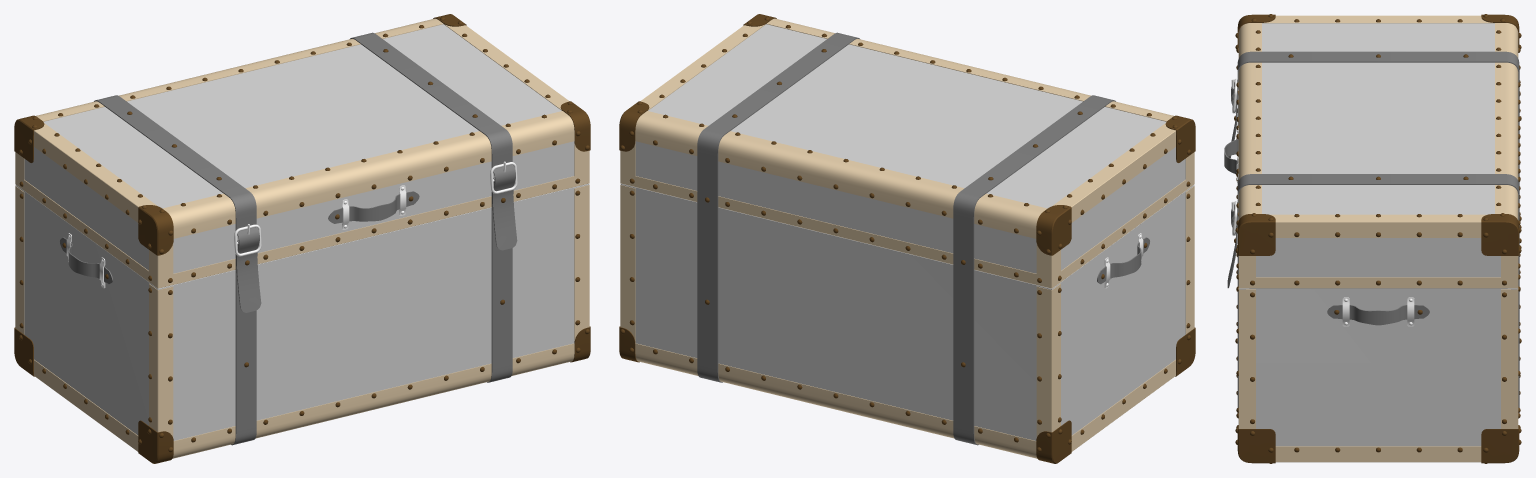
The model's file is chest.FBX.
The picture shows the model from 3 angles, left to right: view 1: azimuth 30°, elevation 25°; view 2: azimuth 150°, elevation 25°; view 3: azimuth 270°, elevation 25°; orthographic projection. The views are drawn at different scales.
Parts seen in each view (by area): view 1: Obj3d66-494775-1-440; view 2: Obj3d66-494775-1-440; view 3: Obj3d66-494775-1-440.
Part boxes in pixels (x1,y1,x2,y2): Obj3d66-494775-1-440: (14, 14, 590, 463); Obj3d66-494775-1-440: (619, 14, 1195, 463); Obj3d66-494775-1-440: (1224, 14, 1521, 463).
Bounding box in the file's own units: 34.94 × 18.36 × 20.09.
